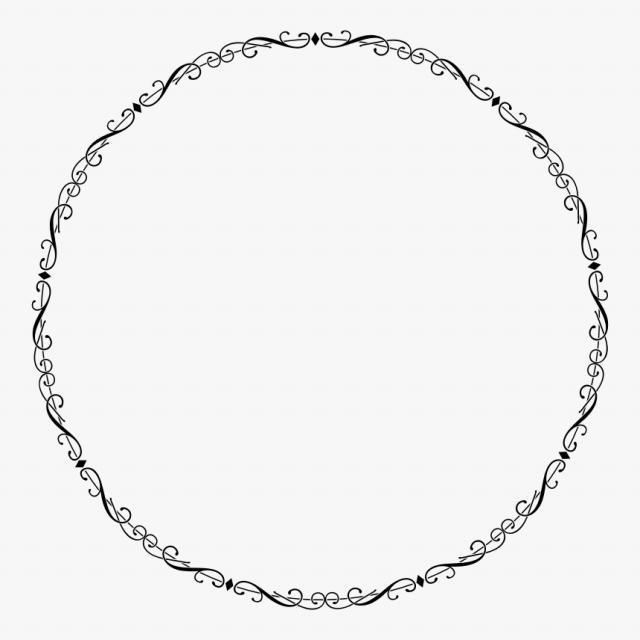Circle: (41, 32, 606, 606)
